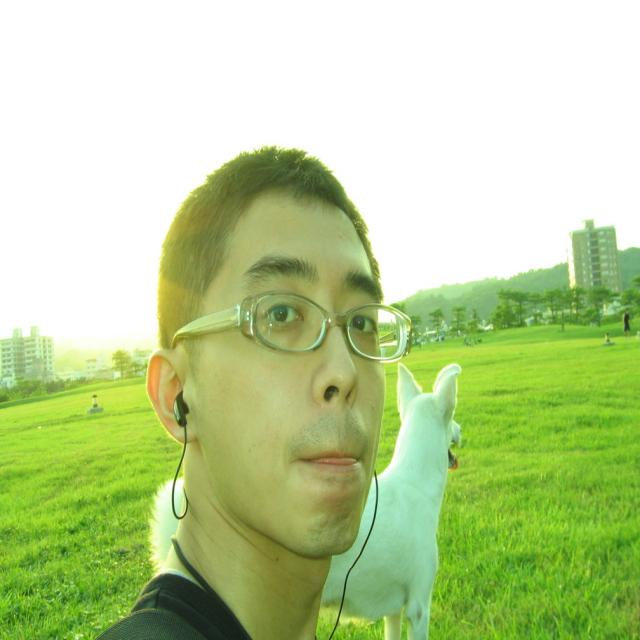Glasses: (169, 292, 414, 364)
